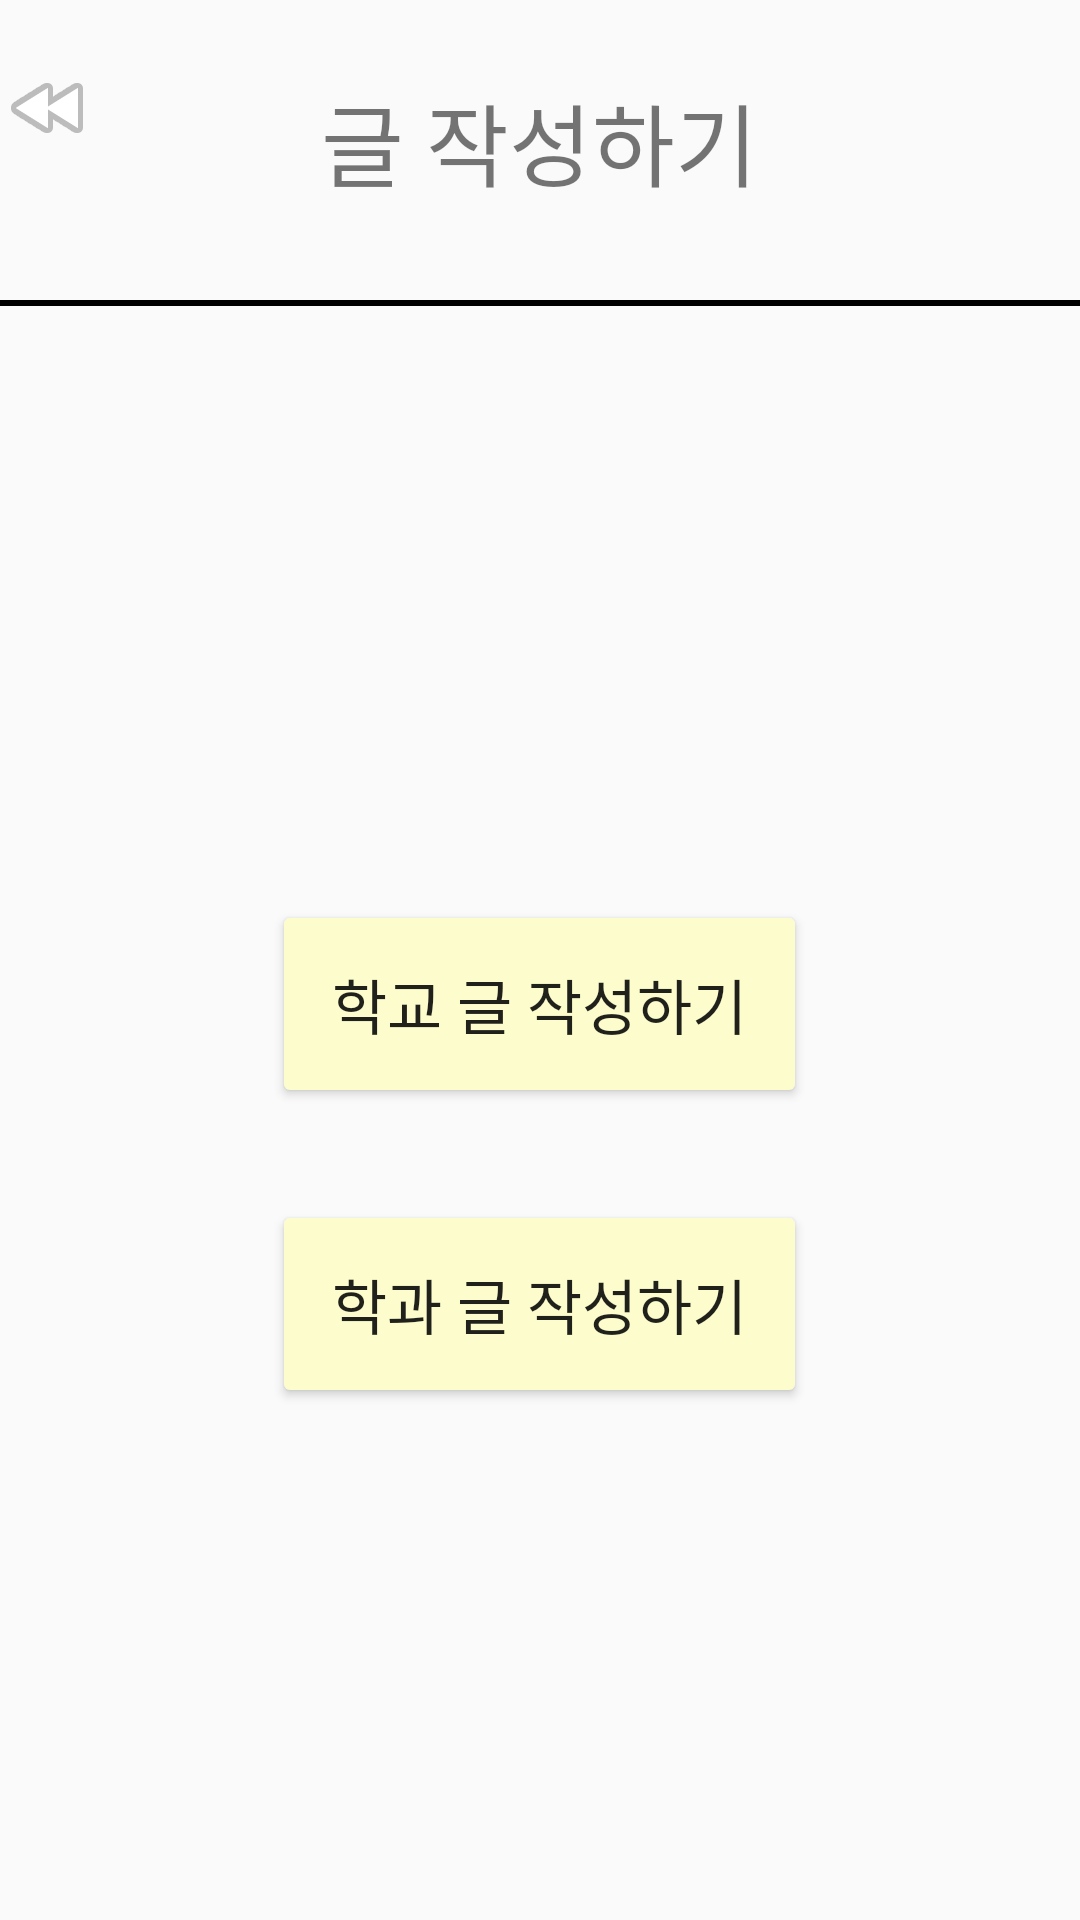

Icons on this 1080 x 1920 Android screen, each with its box as detection(x1, y1, x2, y2):
rew: detection(11, 83, 83, 133)
